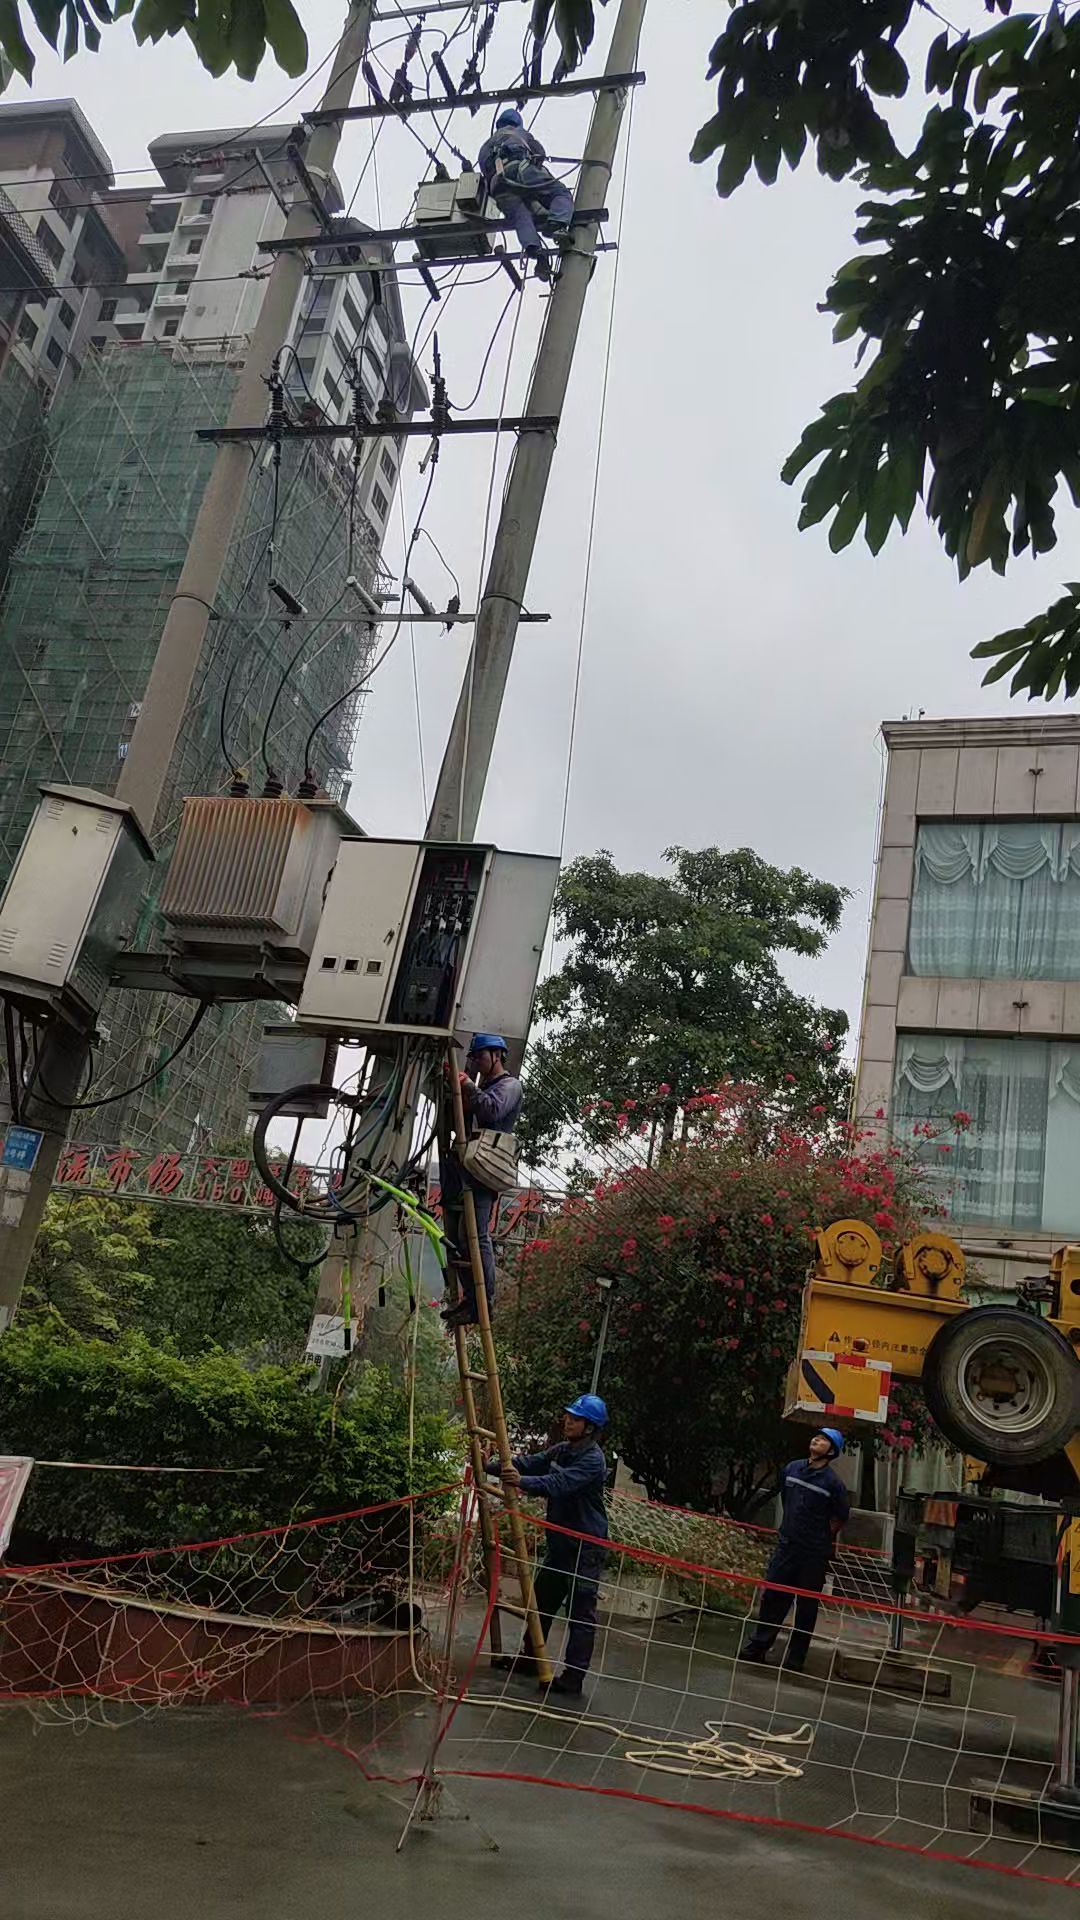downsuit: (527, 1568, 608, 1671), (760, 1559, 820, 1653), (445, 1187, 497, 1295)
halt: (564, 1393, 613, 1437), (466, 1032, 511, 1073), (806, 1428, 844, 1463)
hand: (492, 1463, 522, 1488)
person: (500, 1388, 625, 1681), (432, 1028, 531, 1321), (745, 1427, 857, 1656)
support: (464, 1395, 620, 1695)
upsuit: (525, 1439, 611, 1556), (766, 1462, 855, 1568), (463, 1077, 524, 1191)
